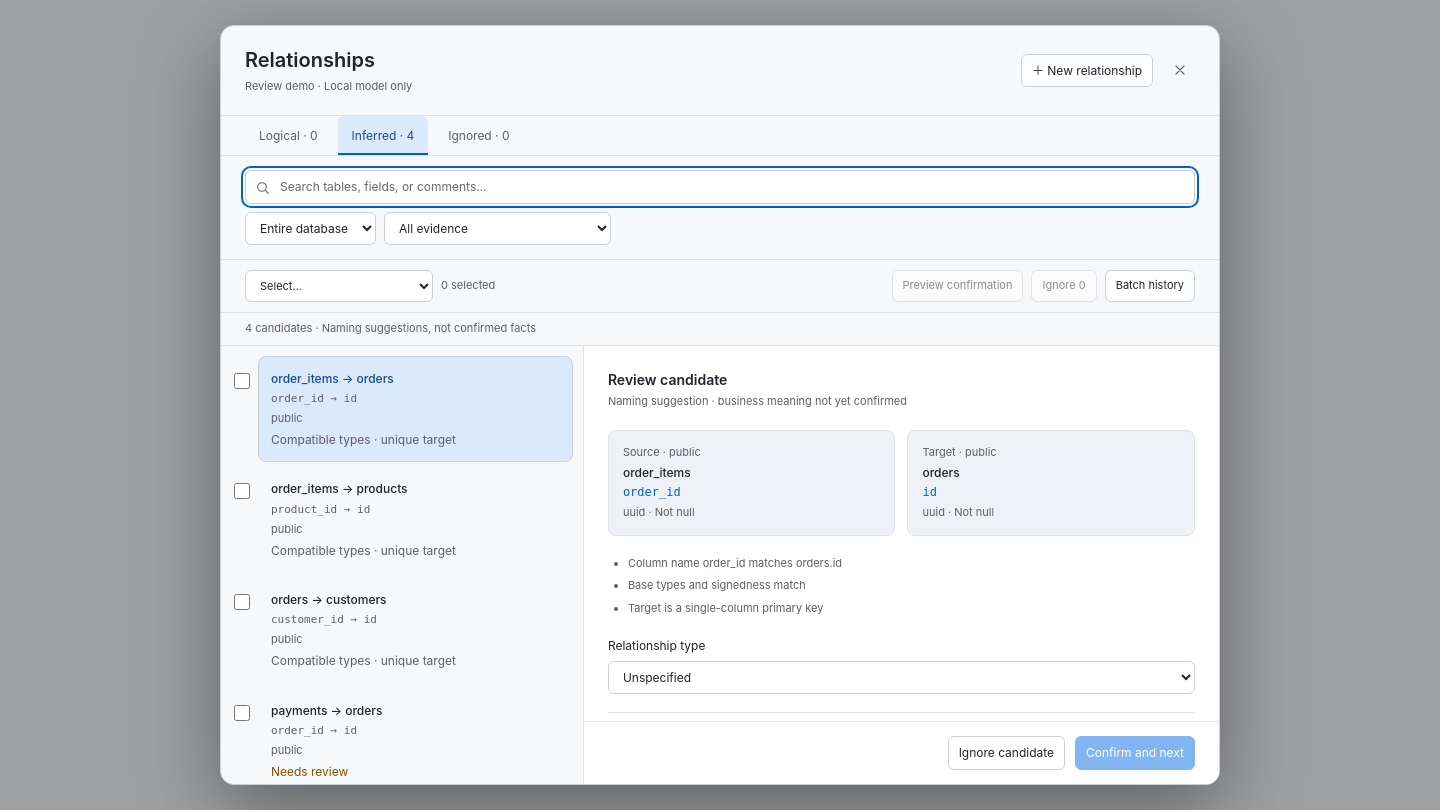
Scenario: selects filtered rows, keeps row details independent, and clears selection on filter changes
Type "order_items" into the search field at (720, 187), box left=245, top=170, right=1195, bottom=204
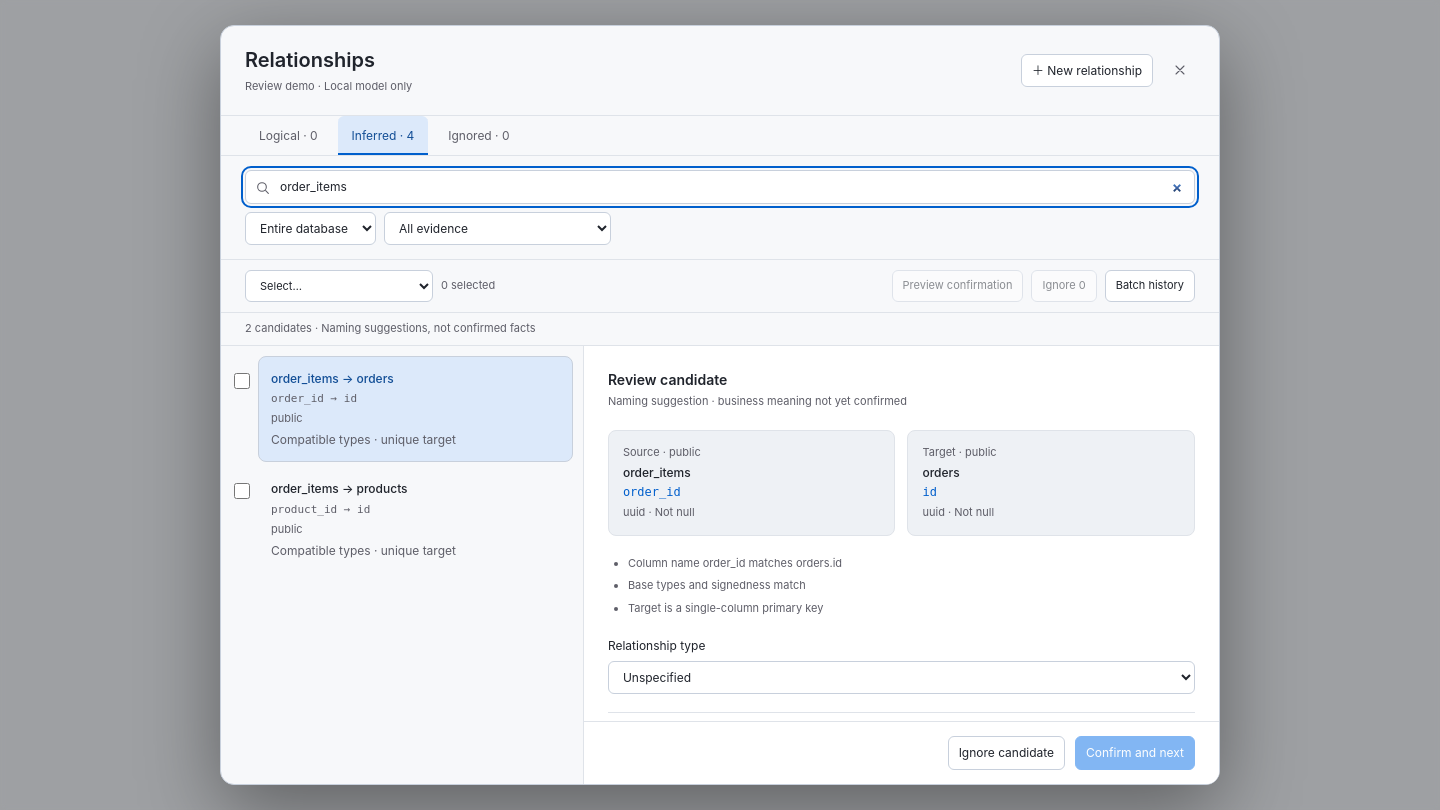
Select "All filtered · 2" in the dropdown named "Select candidates for batch" at (339, 286), box left=245, top=270, right=433, bottom=302
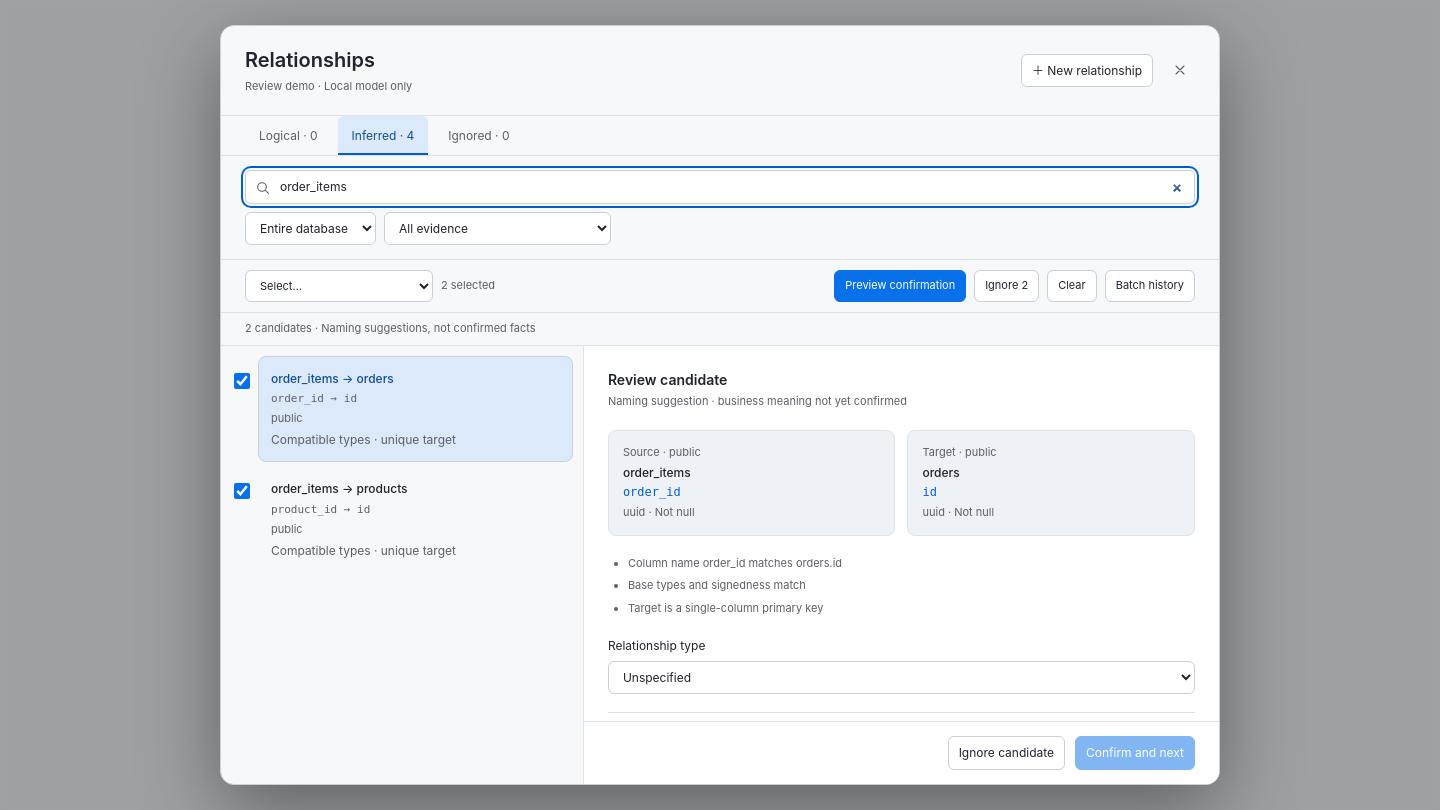
Now the text "2 selected" is shown, box left=441, top=278, right=495, bottom=294
Click the button that starts with "order_items → products" at (339, 489), box left=258, top=466, right=573, bottom=573
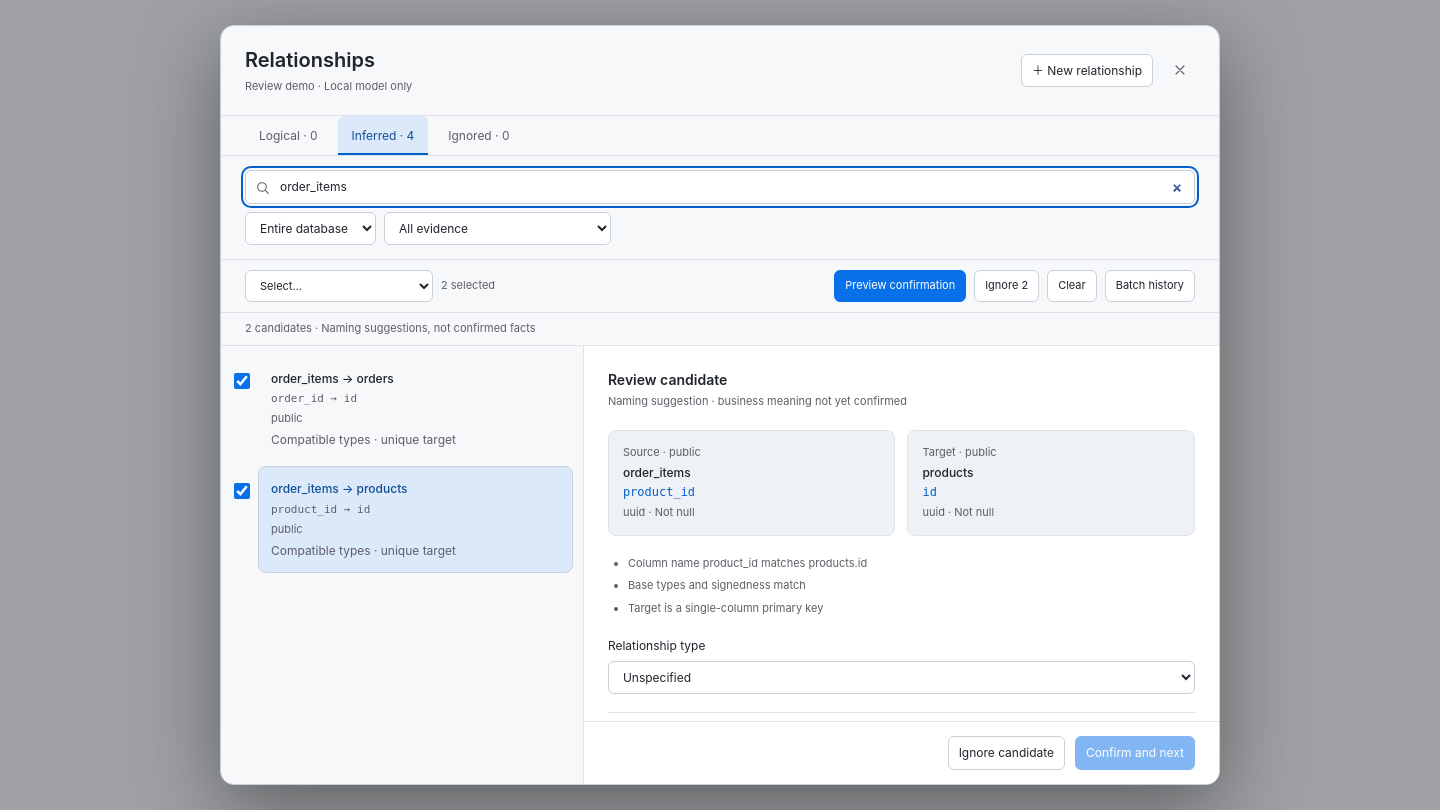
Now the text "2 selected" is shown, box left=441, top=278, right=495, bottom=294
Replace the text in the search field with "payments" at (720, 187), box left=245, top=170, right=1195, bottom=204
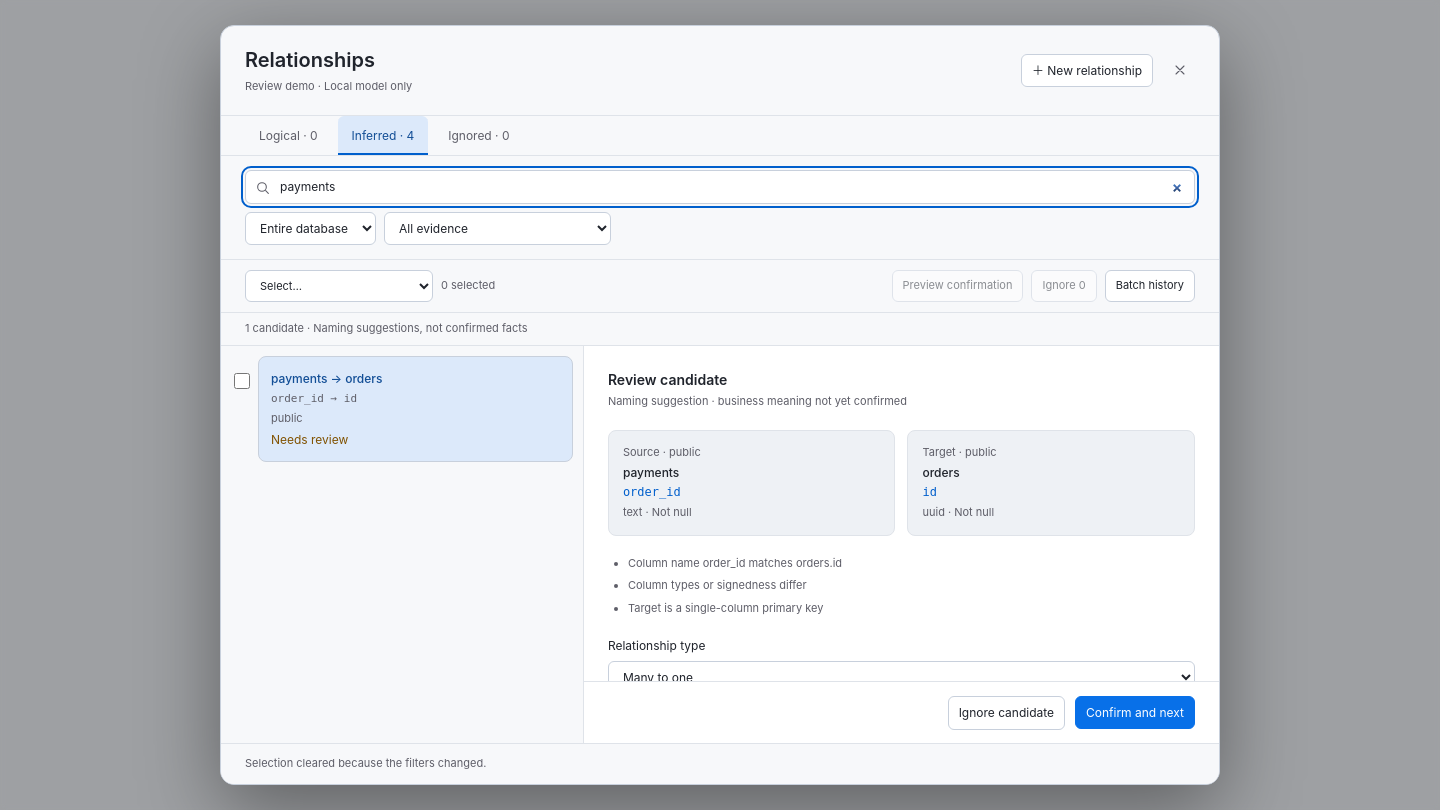
Now the text "0 selected" is shown, box left=441, top=278, right=495, bottom=294
Now the message shows "Selection cleared", box left=245, top=756, right=486, bottom=770
Now the button "Confirm and next" is enabled, box left=1075, top=696, right=1195, bottom=729
